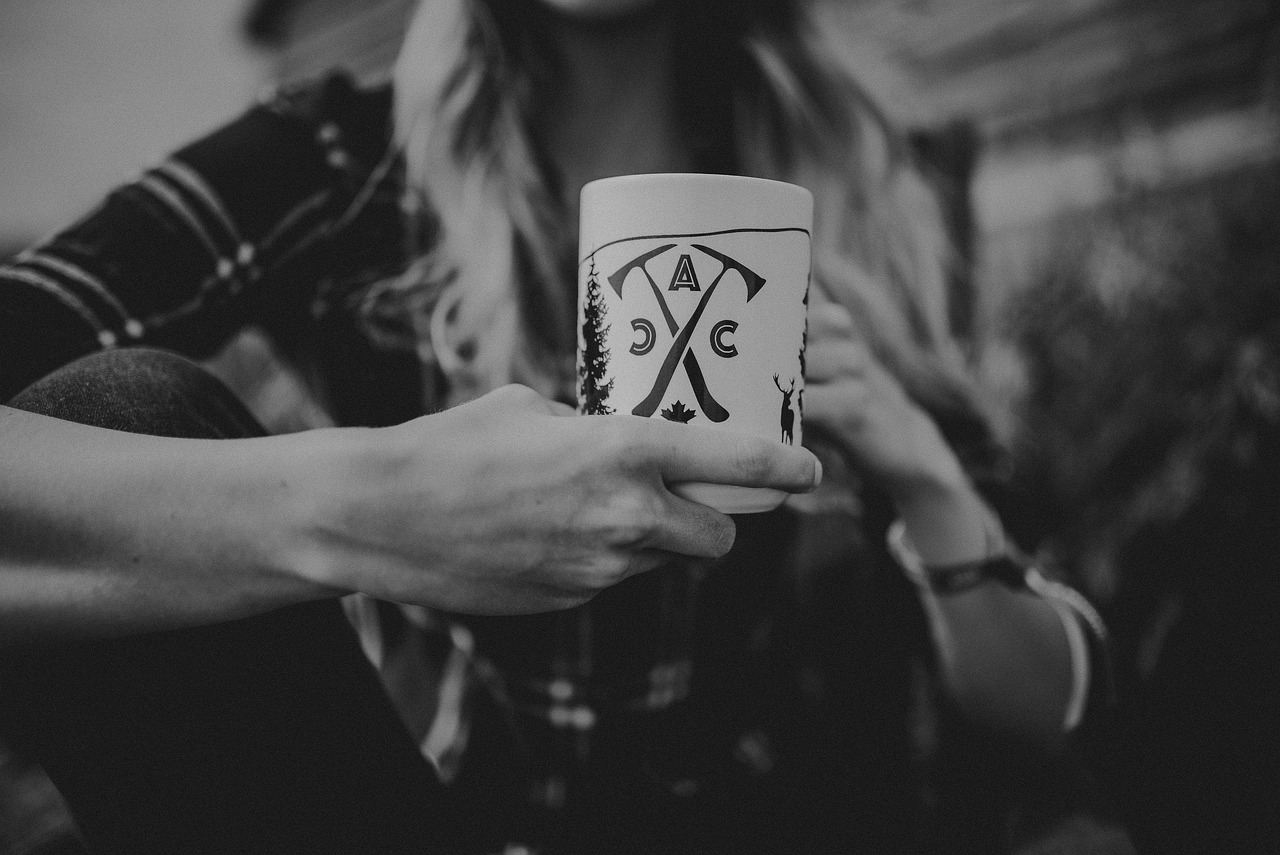mug: (542, 140, 850, 576)
